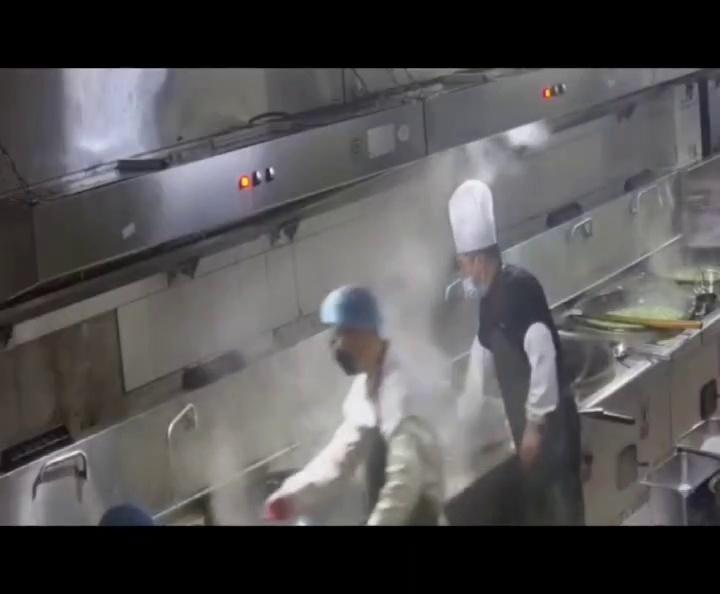mask: (456, 263, 492, 304)
